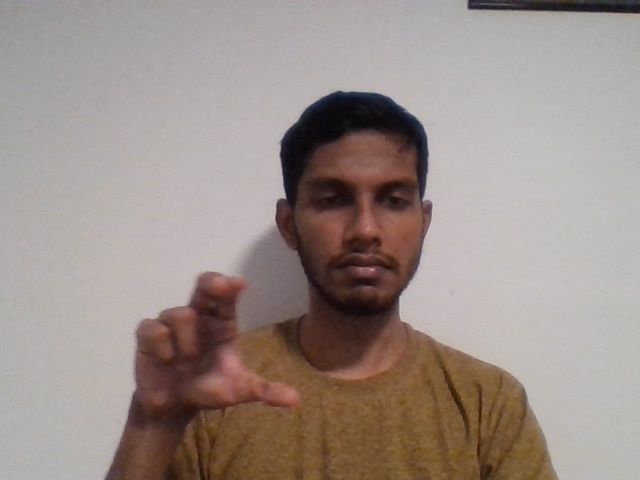no: (111, 257, 319, 445)
